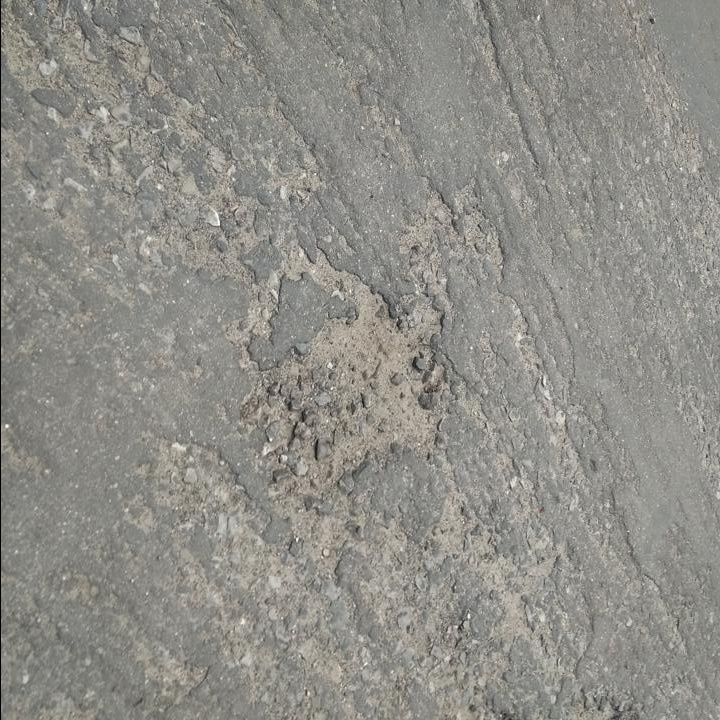pothole: (252, 271, 457, 496)
